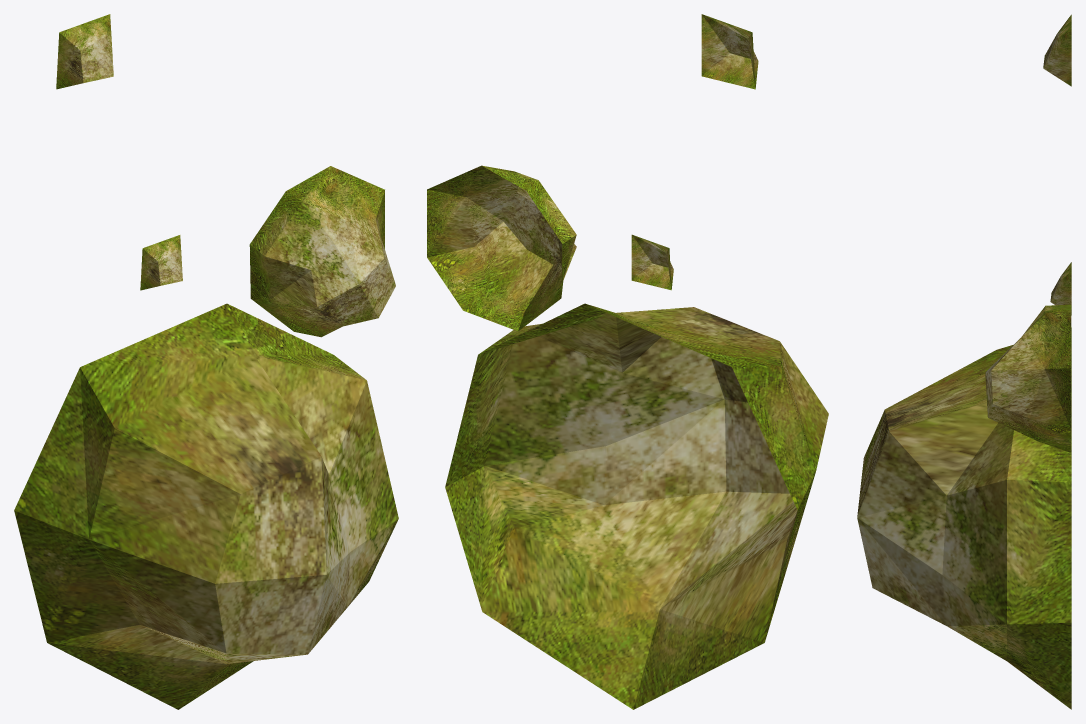
Rendered from xila_yewai_45_stone_01b.obj.
The picture shows the model from 3 angles, left to right: view 1: azimuth 30°, elevation 25°; view 2: azimuth 150°, elevation 25°; view 3: azimuth 270°, elevation 25°; orthographic projection. The views are drawn at different scales.
Parts seen in each view (by area): view 1: xila_yewai_45_stone_01b; view 2: xila_yewai_45_stone_01b; view 3: xila_yewai_45_stone_01b.
Part boxes in pixels (x1=…): xila_yewai_45_stone_01b: x1=14, y1=14, x2=398, y2=709; xila_yewai_45_stone_01b: x1=427, y1=14, x2=828, y2=709; xila_yewai_45_stone_01b: x1=857, y1=14, x2=1071, y2=709.
Bounding box in the file's own units: 42.03 × 77.17 × 23.53.
Materials: 1 (1 with a texture image).
